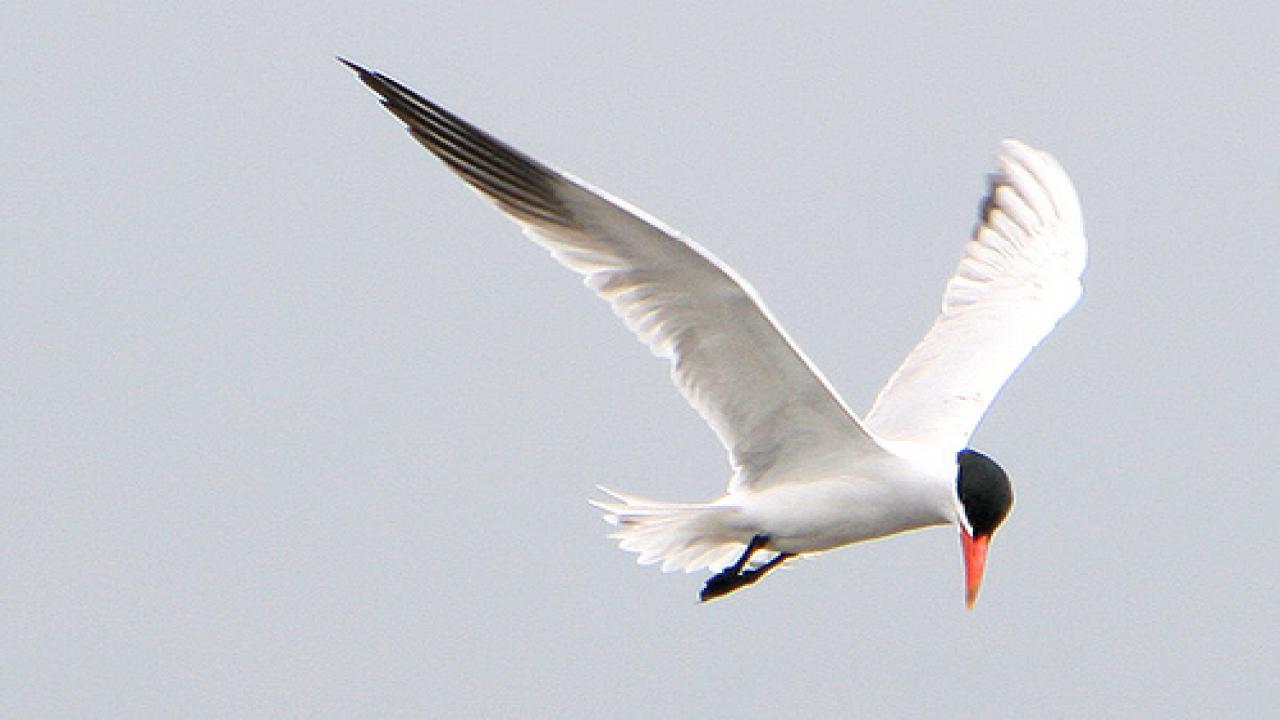Bird: (294, 37, 1101, 620)
